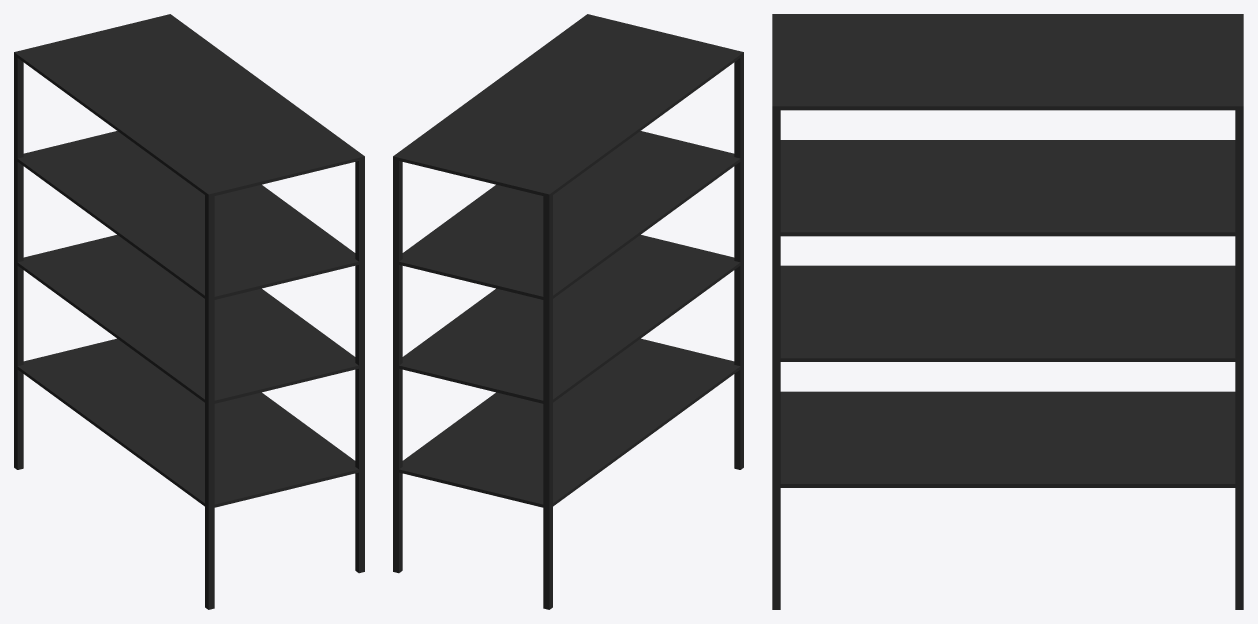
File: Shelf.fbx
3 views of the same model, side by side, from view 1: azimuth 30°, elevation 25°; view 2: azimuth 150°, elevation 25°; view 3: azimuth 270°, elevation 25° (orthographic). The views are drawn at different scales.
Parts seen in each view (by area): view 1: Cube.001; view 2: Cube.001; view 3: Cube.001.
Part boxes in pixels (x1,y1,x2,y2): Cube.001: [14, 14, 364, 609]; Cube.001: [393, 14, 743, 609]; Cube.001: [772, 14, 1243, 609].
Size of the model in its own units: 260 by 660 by 560.
